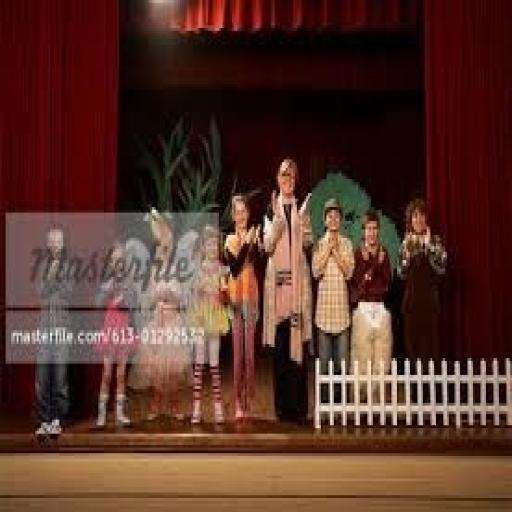clapping: (260, 154, 314, 425), (395, 193, 451, 420), (310, 193, 356, 417), (221, 190, 263, 422), (347, 207, 395, 403)
